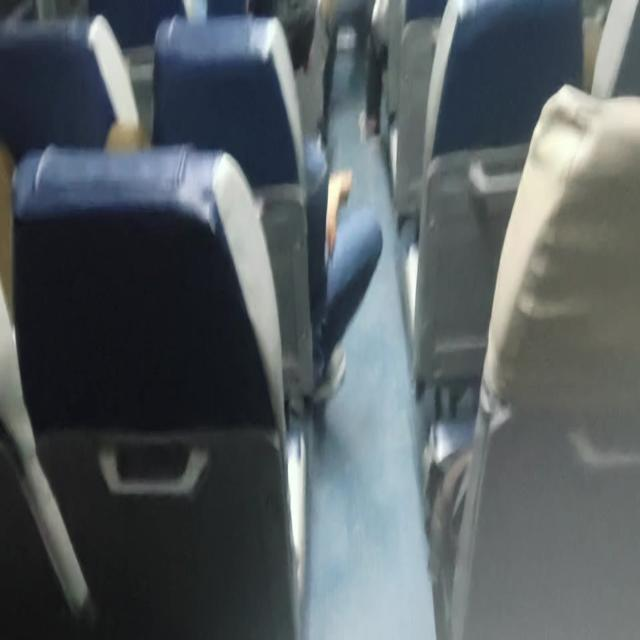person: (235, 0, 316, 77)
